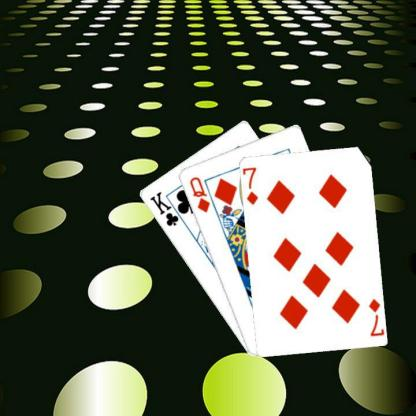7D: (241, 164, 259, 206), (366, 296, 383, 337)
KC: (146, 189, 186, 228)
QD: (187, 174, 211, 214)
